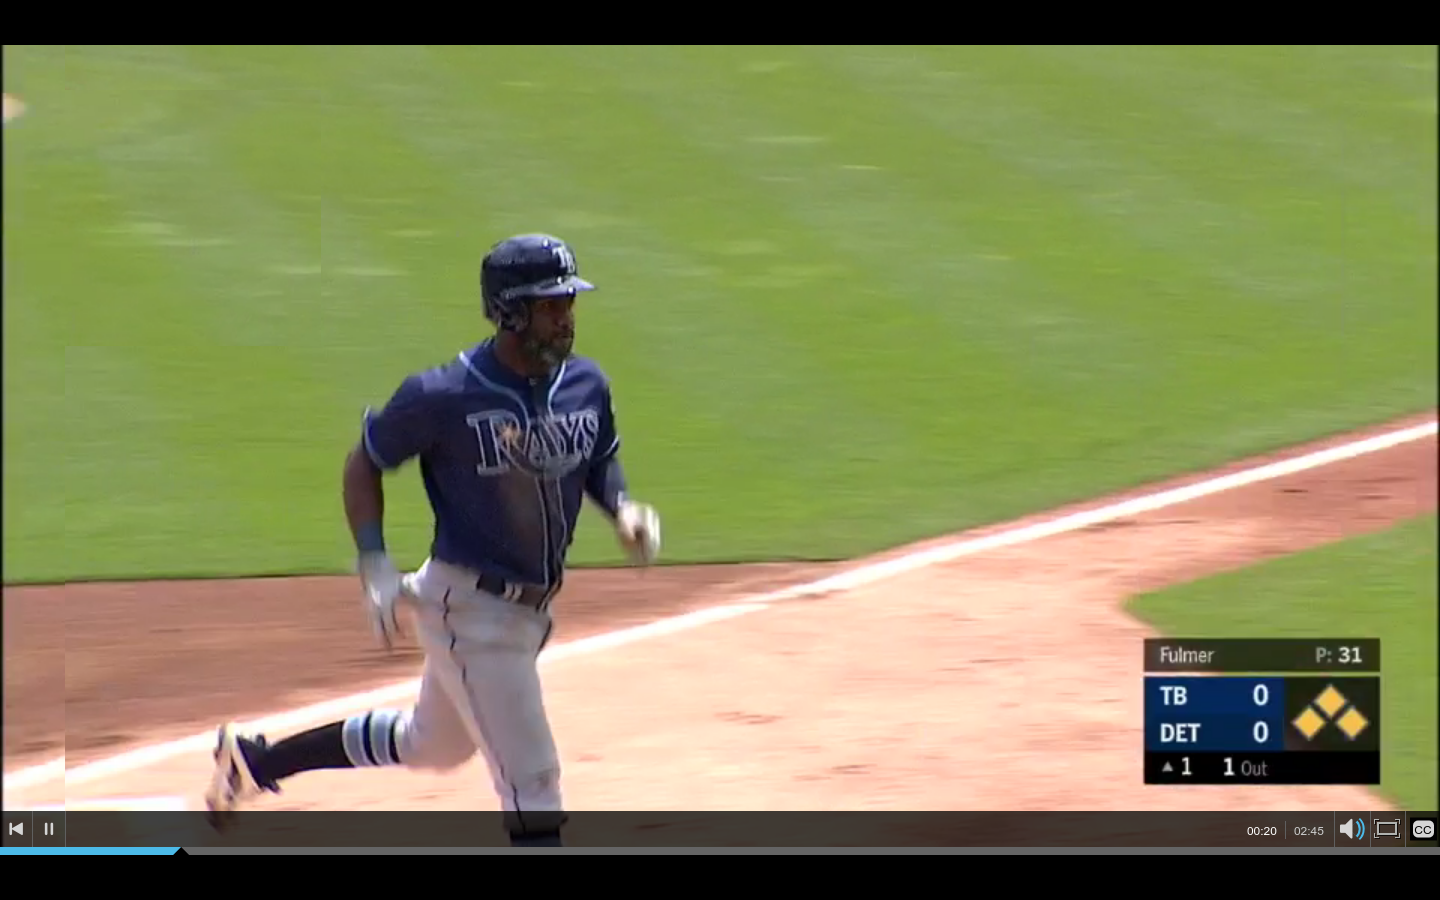baseball player: (195, 228, 668, 811)
